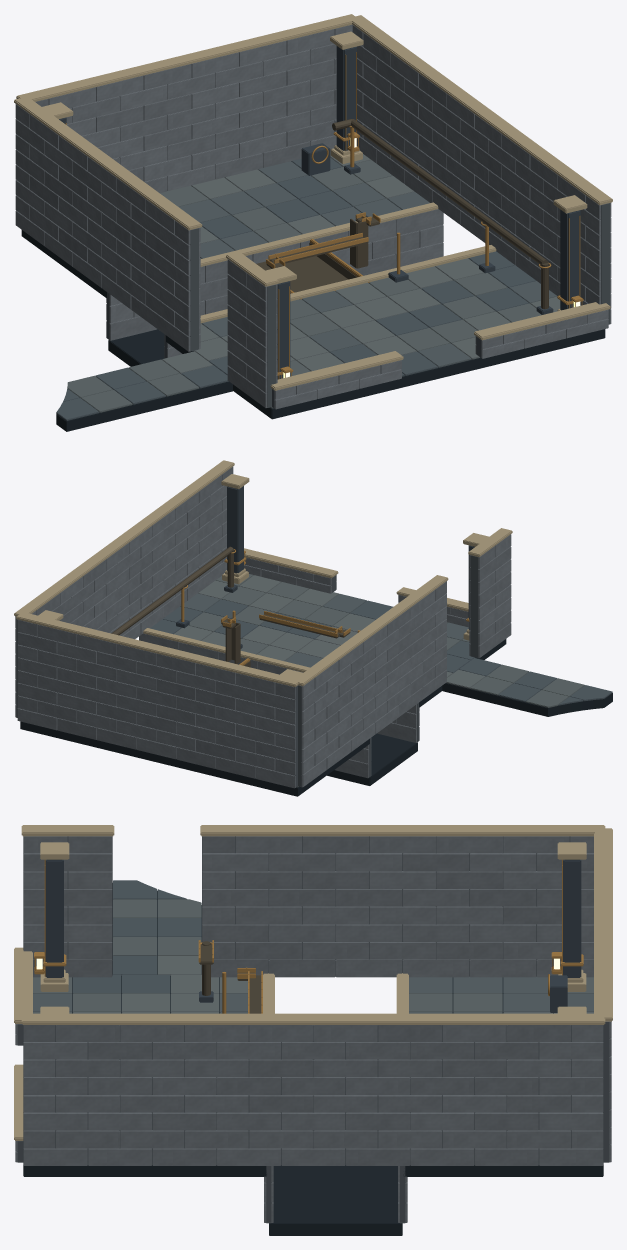
File: foundry-static-v04.glb
3 renders of one model, top to bottom at view 1: azimuth 30°, elevation 25°; view 2: azimuth 150°, elevation 25°; view 3: azimuth 270°, elevation 25°, orthographic. The views are drawn at different scales.
Parts seen in each view (by area): view 1: foundry-static-v04 Fire coursed basalt, foundry-static-v04 Ash stone • warm trim, foundry-static-v04 Floor stone 2, foundry-static-v04 Floor stone 3, foundry-static-v04 Floor stone 1, foundry-static-v04 Floor stone 0, foundry-static-v04 Recesses and grout, foundry-static-v04 Basalt • charcoal, foundry-static-v04 Bronze • aged recess, foundry-static-v04 Fire recessed mortar, foundry-static-v04 Bronze • forged warm; view 2: foundry-static-v04 Fire coursed basalt, foundry-static-v04 Ash stone • warm trim, foundry-static-v04 Recesses and grout, foundry-static-v04 Floor stone 2, foundry-static-v04 Floor stone 1, foundry-static-v04 Floor stone 3, foundry-static-v04 Bronze • aged recess, foundry-static-v04 Fire recessed mortar, foundry-static-v04 Basalt • charcoal, foundry-static-v04 Floor stone 0, foundry-static-v04 Bronze • forged warm; view 3: foundry-static-v04 Fire coursed basalt, foundry-static-v04 Ash stone • warm trim, foundry-static-v04 Recesses and grout, foundry-static-v04 Floor stone 1, foundry-static-v04 Floor stone 3, foundry-static-v04 Basalt • charcoal, foundry-static-v04 Floor stone 0, foundry-static-v04 Fire recessed mortar, foundry-static-v04 Floor stone 2, foundry-static-v04 Bronze • forged warm, foundry-static-v04 Bronze • aged recess.
Part boxes in pixels (x1=…): foundry-static-v04 Fire coursed basalt: x1=15, y1=24, x2=611, y2=409; foundry-static-v04 Ash stone • warm trim: x1=14, y1=14, x2=612, y2=390; foundry-static-v04 Floor stone 2: x1=162, y1=152, x2=560, y2=373; foundry-static-v04 Floor stone 3: x1=56, y1=158, x2=536, y2=420; foundry-static-v04 Floor stone 1: x1=67, y1=160, x2=541, y2=412; foundry-static-v04 Floor stone 0: x1=179, y1=161, x2=557, y2=367; foundry-static-v04 Recesses and grout: x1=21, y1=230, x2=605, y2=431; foundry-static-v04 Basalt • charcoal: x1=59, y1=46, x2=580, y2=379; foundry-static-v04 Bronze • aged recess: x1=256, y1=119, x2=548, y2=309; foundry-static-v04 Fire recessed mortar: x1=72, y1=59, x2=609, y2=408; foundry-static-v04 Bronze • forged warm: x1=65, y1=52, x2=583, y2=379; foundry-static-v04 Fire coursed basalt: x1=15, y1=466, x2=511, y2=788; foundry-static-v04 Ash stone • warm trim: x1=14, y1=460, x2=512, y2=686; foundry-static-v04 Recesses and grout: x1=20, y1=639, x2=612, y2=796; foundry-static-v04 Floor stone 2: x1=174, y1=575, x2=485, y2=688; foundry-static-v04 Floor stone 1: x1=188, y1=574, x2=584, y2=787; foundry-static-v04 Floor stone 3: x1=150, y1=599, x2=612, y2=705; foundry-static-v04 Bronze • aged recess: x1=111, y1=546, x2=350, y2=667; foundry-static-v04 Fire recessed mortar: x1=16, y1=555, x2=478, y2=787; foundry-static-v04 Basalt • charcoal: x1=176, y1=486, x2=474, y2=648; foundry-static-v04 Floor stone 0: x1=180, y1=593, x2=468, y2=667; foundry-static-v04 Bronze • forged warm: x1=181, y1=549, x2=469, y2=665; foundry-static-v04 Fire coursed basalt: x1=15, y1=836, x2=611, y2=1222; foundry-static-v04 Ash stone • warm trim: x1=14, y1=825, x2=612, y2=1140; foundry-static-v04 Recesses and grout: x1=23, y1=883, x2=603, y2=1235; foundry-static-v04 Floor stone 1: x1=33, y1=899, x2=593, y2=1013; foundry-static-v04 Floor stone 3: x1=73, y1=880, x2=201, y2=993; foundry-static-v04 Basalt • charcoal: x1=45, y1=859, x2=581, y2=1012; foundry-static-v04 Floor stone 0: x1=33, y1=976, x2=593, y2=1013; foundry-static-v04 Fire recessed mortar: x1=17, y1=836, x2=609, y2=1223; foundry-static-v04 Floor stone 2: x1=73, y1=955, x2=593, y2=1013; foundry-static-v04 Bronze • forged warm: x1=34, y1=859, x2=583, y2=1013; foundry-static-v04 Bronze • aged recess: x1=199, y1=941, x2=261, y2=1013.
Bounding box in the file's own units: 30.42 × 10.82 × 26.85.
Materials: 12 (1 with a texture image).
